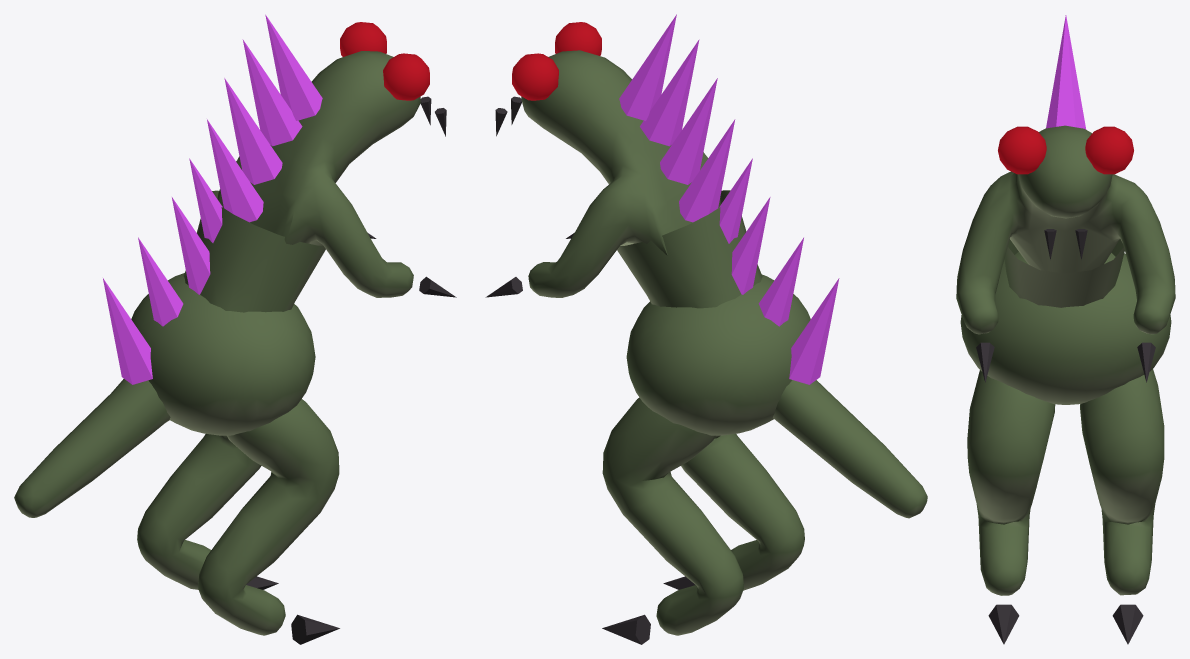
The model's file is chupacabra.glb.
3 views of the same model, side by side, from view 1: azimuth 30°, elevation 25°; view 2: azimuth 150°, elevation 25°; view 3: azimuth 270°, elevation 25° (orthographic).
Parts seen in each view (by area): view 1: chupacabra.001; view 2: chupacabra.001; view 3: chupacabra.001.
Boxes of the visible parts, bbox=[...] form: chupacabra.001: bbox=[14, 14, 456, 644]; chupacabra.001: bbox=[485, 14, 927, 644]; chupacabra.001: bbox=[956, 15, 1175, 644].
Bounding box in the file's own units: 0.7917 × 1.09 × 0.3533.
